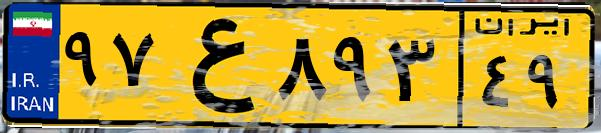3: (385, 28, 445, 110)
4: (475, 38, 525, 113)
7: (110, 28, 158, 98)
8: (270, 28, 330, 110)
9: (330, 28, 385, 110), (57, 26, 110, 100), (525, 38, 570, 115)
ع: (158, 12, 270, 120)
